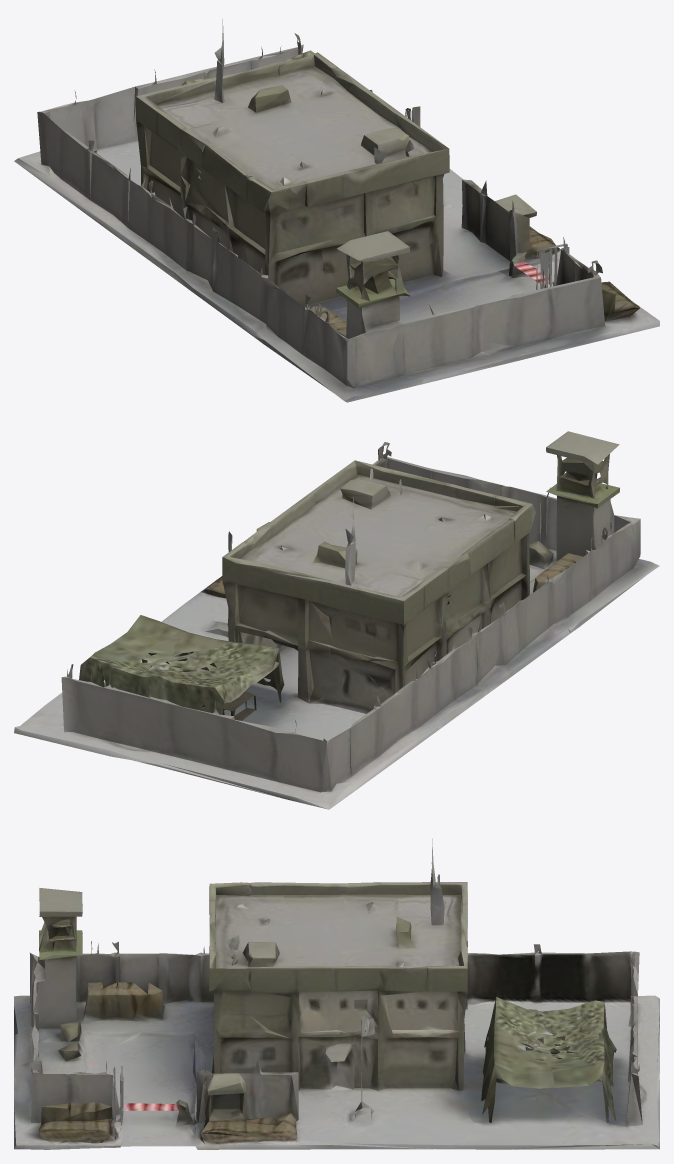
The model's file is predio_exercito.glb.
The picture shows the model from 3 angles, top to bottom: view 1: azimuth 30°, elevation 25°; view 2: azimuth 150°, elevation 25°; view 3: azimuth 270°, elevation 25°; orthographic projection. The views are drawn at different scales.
Parts seen in each view (by area): view 1: tripo_node_5a1ea2e2-5ff2-46af-b6fc-51d7c65324d3; view 2: tripo_node_5a1ea2e2-5ff2-46af-b6fc-51d7c65324d3; view 3: tripo_node_5a1ea2e2-5ff2-46af-b6fc-51d7c65324d3.
Boxes of the visible parts, <box> form: tripo_node_5a1ea2e2-5ff2-46af-b6fc-51d7c65324d3: <box>14,19,659,402</box>; tripo_node_5a1ea2e2-5ff2-46af-b6fc-51d7c65324d3: <box>14,431,659,809</box>; tripo_node_5a1ea2e2-5ff2-46af-b6fc-51d7c65324d3: <box>14,838,659,1149</box>.
Size of the model in its own units: 0.5536 by 0.3502 by 1.
1 material, 1 textured.
